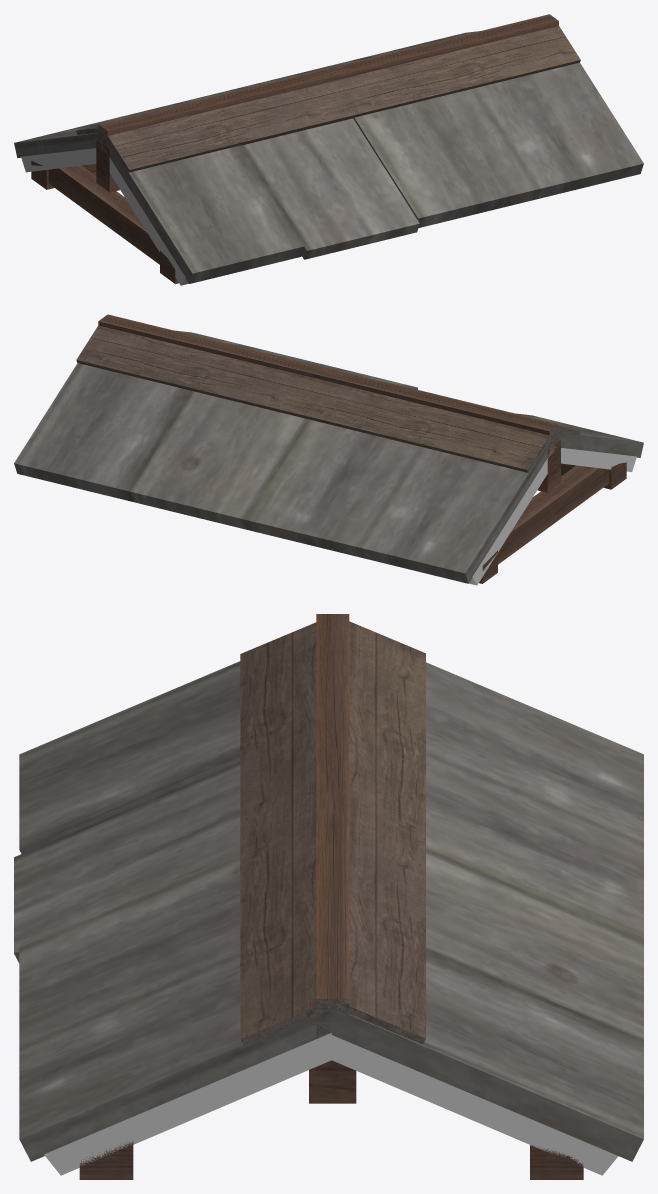
Rendered from fence_top2a_1t.fbx.
3 renders of one model, top to bottom at view 1: azimuth 30°, elevation 25°; view 2: azimuth 150°, elevation 25°; view 3: azimuth 270°, elevation 25°, orthographic. The views are drawn at different scales.
Visible parts, largest first — view 1: fence_top2a_1t; view 2: fence_top2a_1t; view 3: fence_top2a_1t.
Part boxes in pixels (x1,y1,x2,y2): fence_top2a_1t: (14,14,643,285); fence_top2a_1t: (14,314,643,585); fence_top2a_1t: (14,614,643,1179).
Size of the model in its own units: 220 by 48.2 by 152.
